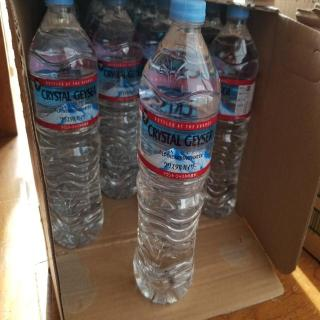Plastic-bottle: (131, 1, 223, 312), (26, 1, 108, 251), (201, 1, 263, 222), (87, 1, 144, 202)
